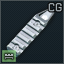Custom Guns rail guide: (0, 0, 64, 64)
